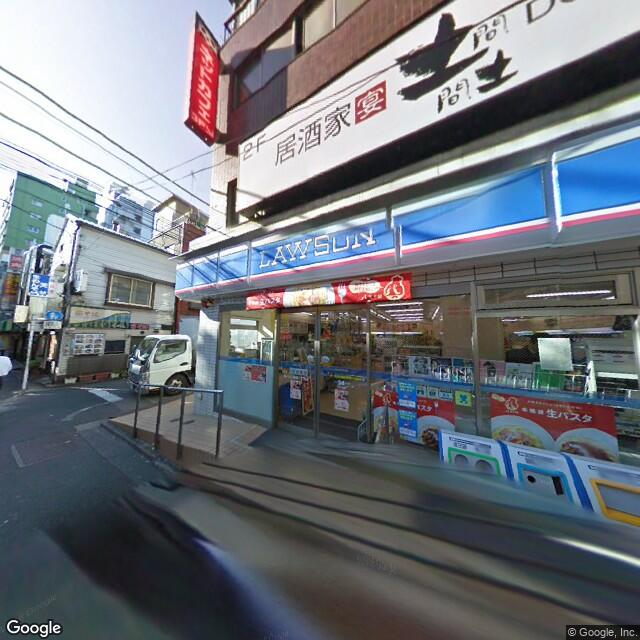lawson: (169, 111, 638, 301)
